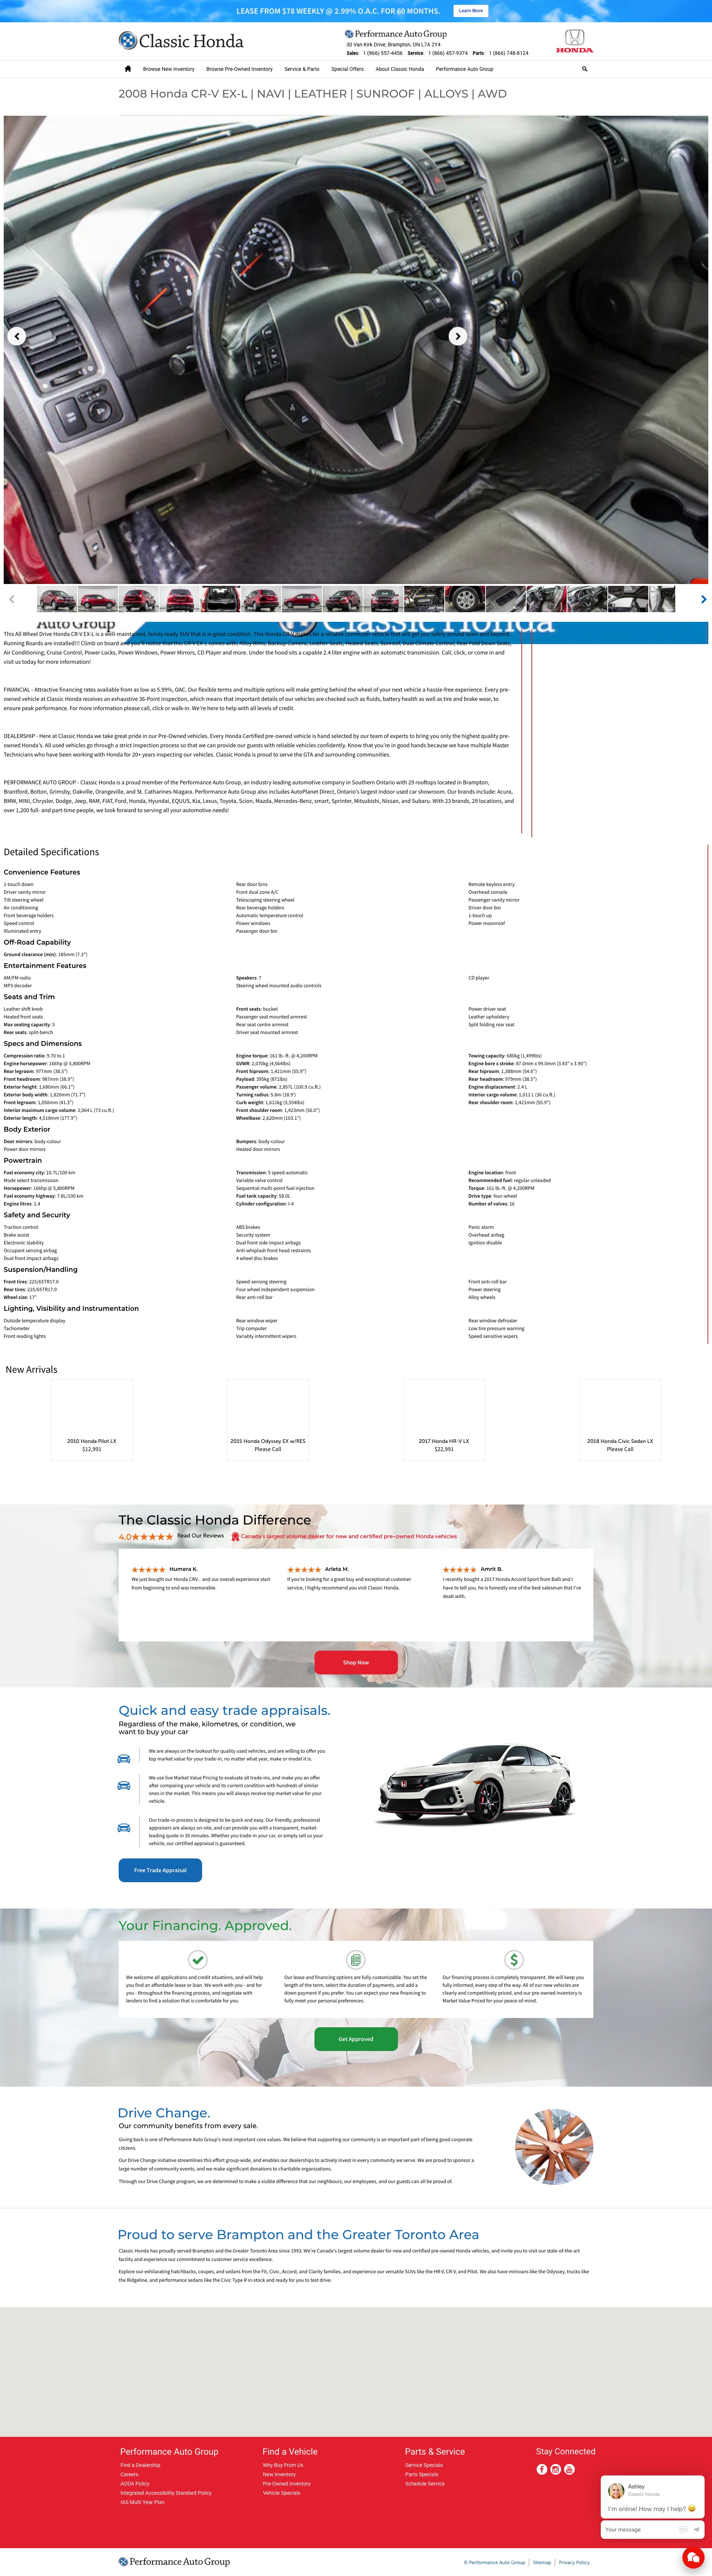car: (701, 595, 707, 603)
